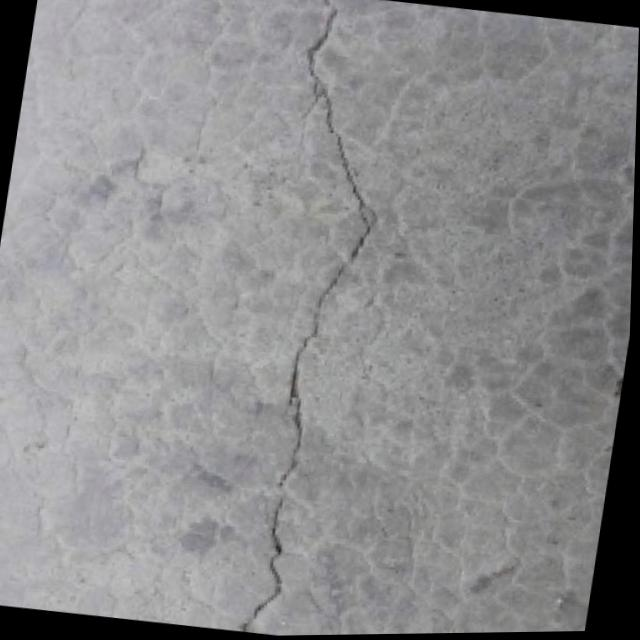Crack: (190, 0, 434, 638)
